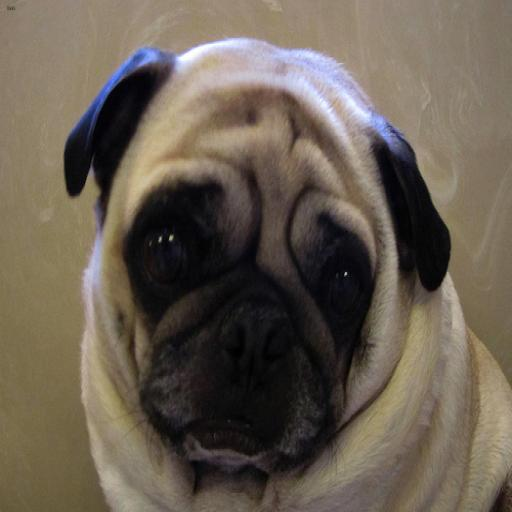dog_face: (60, 43, 458, 462)
